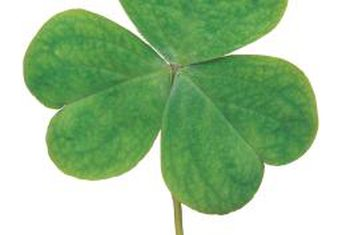oxalis: (18, 1, 336, 210)
